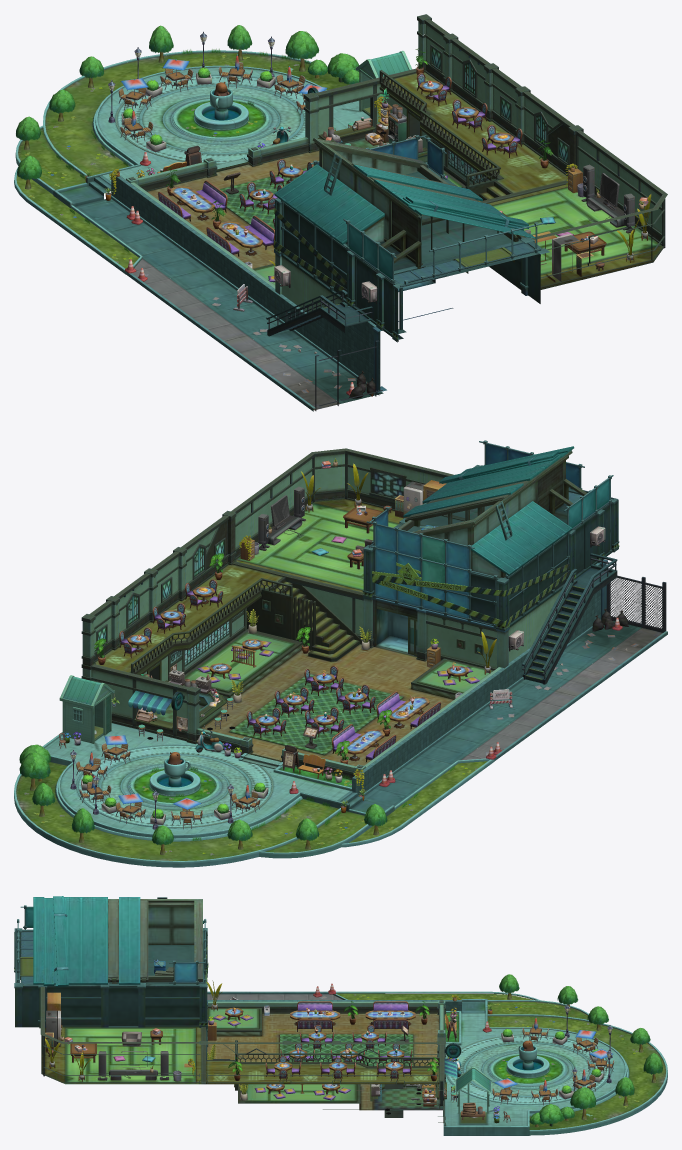
The model's file is febg_coffeeshop_001_01.glb.
The picture shows the model from 3 angles, top to bottom: view 1: azimuth 30°, elevation 25°; view 2: azimuth 150°, elevation 25°; view 3: azimuth 270°, elevation 25°; orthographic projection. The views are drawn at different scales.
Parts seen in each view (by area): view 1: febg_coffeeshop_001_bg_01, febg_coffeeshop_001_wall_05, febg_coffeeshop_001_constructionarea_01, febg_coffeeshop_001_bg_04, febg_coffeeshop_001_bg_03, febg_coffeeshop_001_bg_05, febg_coffeeshop_001_wall_04, febg_coffeeshop_television_01, febg_coffeeshop_001_tree_03 (4), febg_coffeeshop_table_01, febg_coffeeshop_table_01 (1); view 2: febg_coffeeshop_001_wall_05, febg_coffeeshop_001_bg_01, febg_coffeeshop_001_bg_04, febg_coffeeshop_001_constructionarea_01, febg_coffeeshop_001_bg_03, febg_coffeeshop_001_wall_04, febg_coffeeshop_001_bg_05, febg_coffeeshop_001_wall_03, febg_coffeeshop_television_01, febg_coffeeshop_001_tree_03 (4); view 3: febg_coffeeshop_001_constructionarea_01, febg_coffeeshop_001_bg_01, febg_coffeeshop_001_bg_04, febg_coffeeshop_001_bg_03, febg_coffeeshop_001_wall_05, febg_coffeeshop_001_wall_04, febg_coffeeshop_001_bg_05, febg_coffeeshop_television_01, febg_coffeeshop_table_01, febg_coffeeshop_001_tree_03 (4), febg_coffeeshop_table_01 (1), febg_coffeeshop_refrigerator_01 (+2 smaller).
Part boxes in pixels (x1,y1,x2,y2): febg_coffeeshop_001_bg_01: [60, 67, 662, 411]; febg_coffeeshop_001_wall_05: [111, 14, 667, 410]; febg_coffeeshop_001_constructionarea_01: [273, 135, 549, 342]; febg_coffeeshop_001_bg_04: [14, 50, 512, 291]; febg_coffeeshop_001_bg_03: [16, 52, 350, 268]; febg_coffeeshop_001_bg_05: [132, 258, 340, 410]; febg_coffeeshop_001_wall_04: [307, 50, 516, 273]; febg_coffeeshop_television_01: [586, 173, 624, 227]; febg_coffeeshop_001_tree_03 (4): [285, 31, 318, 59]; febg_coffeeshop_table_01: [170, 186, 214, 220]; febg_coffeeshop_table_01 (1): [218, 221, 262, 255]; febg_coffeeshop_001_wall_05: [81, 448, 666, 796]; febg_coffeeshop_001_bg_01: [42, 499, 667, 834]; febg_coffeeshop_001_bg_04: [14, 577, 494, 867]; febg_coffeeshop_001_constructionarea_01: [362, 440, 619, 630]; febg_coffeeshop_001_bg_03: [16, 761, 487, 860]; febg_coffeeshop_001_wall_04: [59, 599, 483, 743]; febg_coffeeshop_001_bg_05: [461, 628, 662, 760]; febg_coffeeshop_001_wall_03: [609, 578, 662, 628]; febg_coffeeshop_television_01: [267, 495, 303, 545]; febg_coffeeshop_001_tree_03 (4): [19, 752, 50, 778]; febg_coffeeshop_001_constructionarea_01: [14, 896, 208, 1028]; febg_coffeeshop_001_bg_01: [41, 991, 625, 1135]; febg_coffeeshop_001_bg_04: [108, 991, 667, 1135]; febg_coffeeshop_001_bg_03: [336, 993, 665, 1129]; febg_coffeeshop_001_wall_05: [20, 931, 461, 1125]; febg_coffeeshop_001_wall_04: [20, 957, 491, 1123]; febg_coffeeshop_001_bg_05: [207, 994, 342, 999]; febg_coffeeshop_television_01: [109, 1051, 157, 1080]; febg_coffeeshop_table_01: [365, 1010, 415, 1025]; febg_coffeeshop_001_tree_03 (4): [570, 1087, 596, 1109]; febg_coffeeshop_table_01 (1): [290, 1010, 340, 1025]; febg_coffeeshop_refrigerator_01: [46, 1010, 61, 1046].
Size of the model in its own units: 45.93 by 21.22 by 88.87.
Materials: 15 (14 with a texture image).
